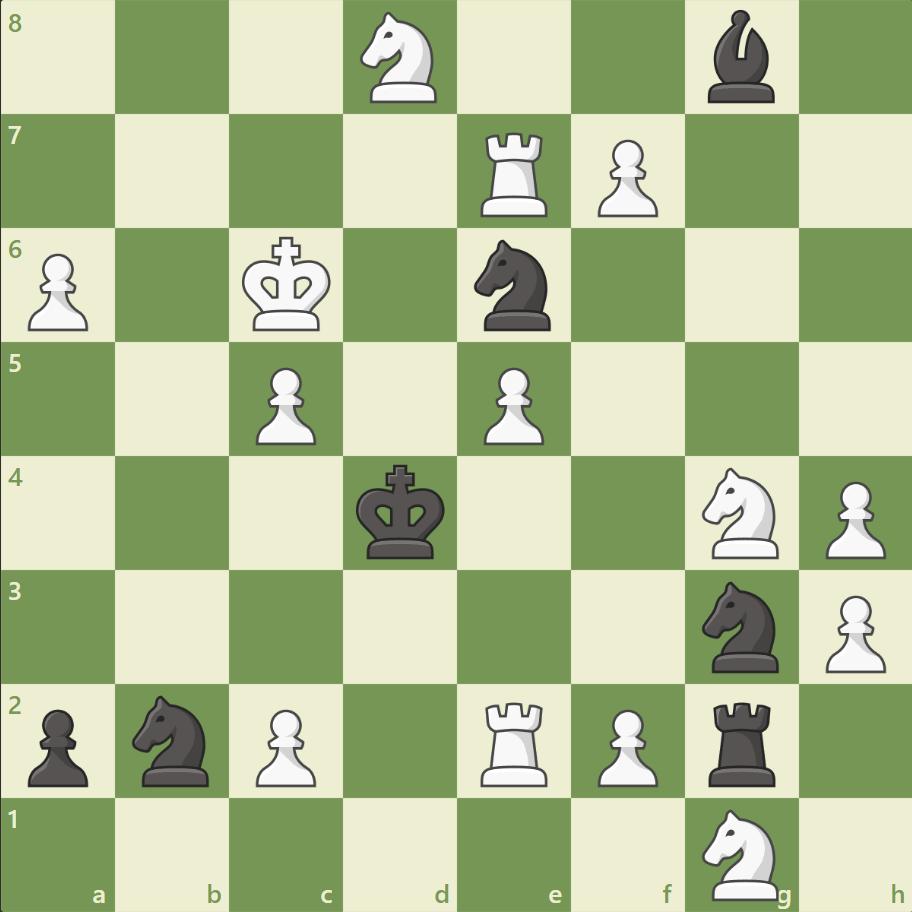K: (238, 231, 338, 339)
N: (351, 7, 449, 110), (692, 461, 789, 564), (692, 802, 789, 904)
P: (20, 246, 95, 337), (247, 359, 322, 450), (474, 359, 549, 450), (247, 700, 322, 791), (588, 132, 662, 223), (815, 473, 889, 564), (815, 586, 889, 677), (588, 700, 662, 791)
R: (473, 125, 556, 222), (473, 693, 556, 790)
b: (698, 6, 782, 109)
k: (351, 458, 451, 566)
n: (124, 688, 222, 791), (465, 234, 562, 337), (692, 575, 789, 677)
p: (20, 700, 95, 791)
r: (700, 693, 783, 790)
